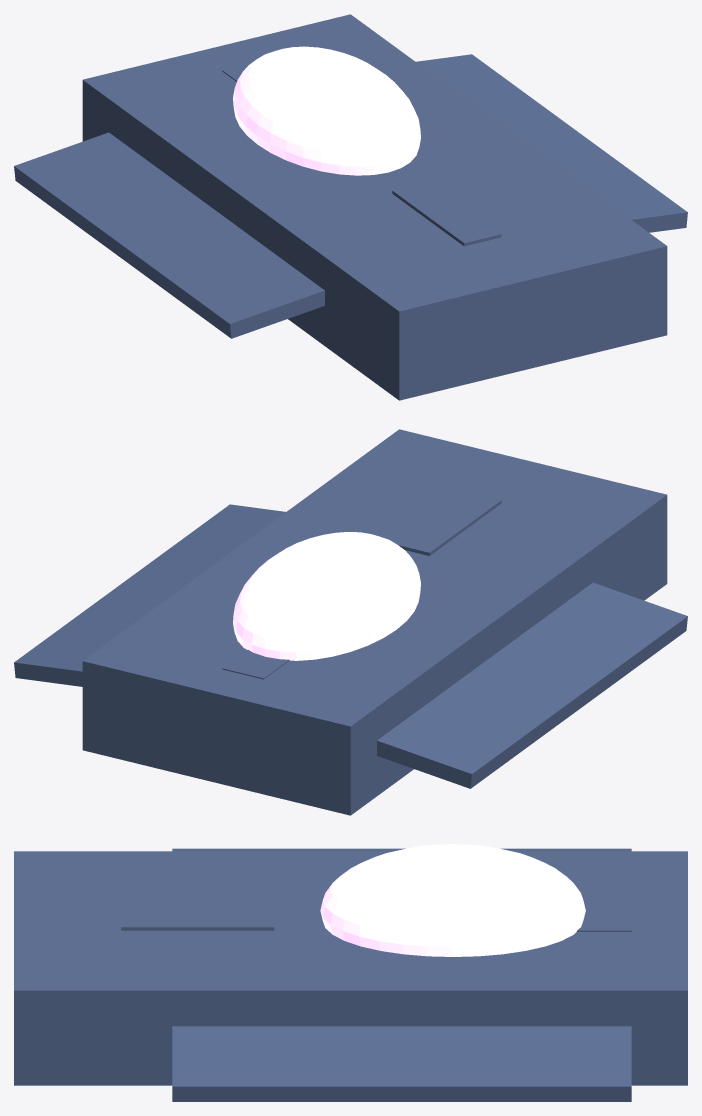
Rendered from ranger_t2.glb.
3 views of the same model, one above another, from view 1: azimuth 30°, elevation 25°; view 2: azimuth 150°, elevation 25°; view 3: azimuth 270°, elevation 25° (orthographic). The views are drawn at different scales.
Visible parts, largest first — view 1: Cube, Cube.002, Sphere, Cube.001, Cube.004; view 2: Cube, Cube.002, Sphere, Cube.001, Cube.004, Cube.003; view 3: Cube, Cube.001, Sphere, Cube.004, Cube.002, Cube.003.
Boxes of the visible parts, bbox=[...] form: Cube: bbox=[82, 14, 667, 400]; Cube.002: bbox=[14, 132, 324, 338]; Sphere: bbox=[233, 46, 420, 175]; Cube.001: bbox=[416, 54, 687, 232]; Cube.004: bbox=[392, 181, 501, 246]; Cube: bbox=[82, 429, 667, 815]; Cube.002: bbox=[377, 582, 687, 788]; Sphere: bbox=[233, 532, 420, 660]; Cube.001: bbox=[14, 504, 285, 686]; Cube.004: bbox=[394, 491, 501, 555]; Cube.003: bbox=[222, 650, 289, 679]; Cube: bbox=[14, 851, 687, 1085]; Cube.001: bbox=[172, 1026, 631, 1101]; Sphere: bbox=[320, 844, 585, 956]; Cube.004: bbox=[121, 908, 274, 930]; Cube.002: bbox=[172, 848, 631, 851]; Cube.003: bbox=[577, 909, 631, 931].
Bounding box in the file's own units: 2.2 × 0.695 × 2.64.
